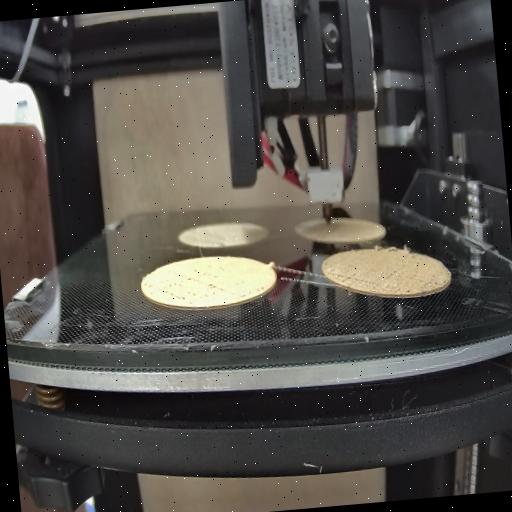under_extrusion: (164, 266, 224, 304), (383, 259, 439, 296), (330, 266, 366, 287), (238, 282, 268, 302)
